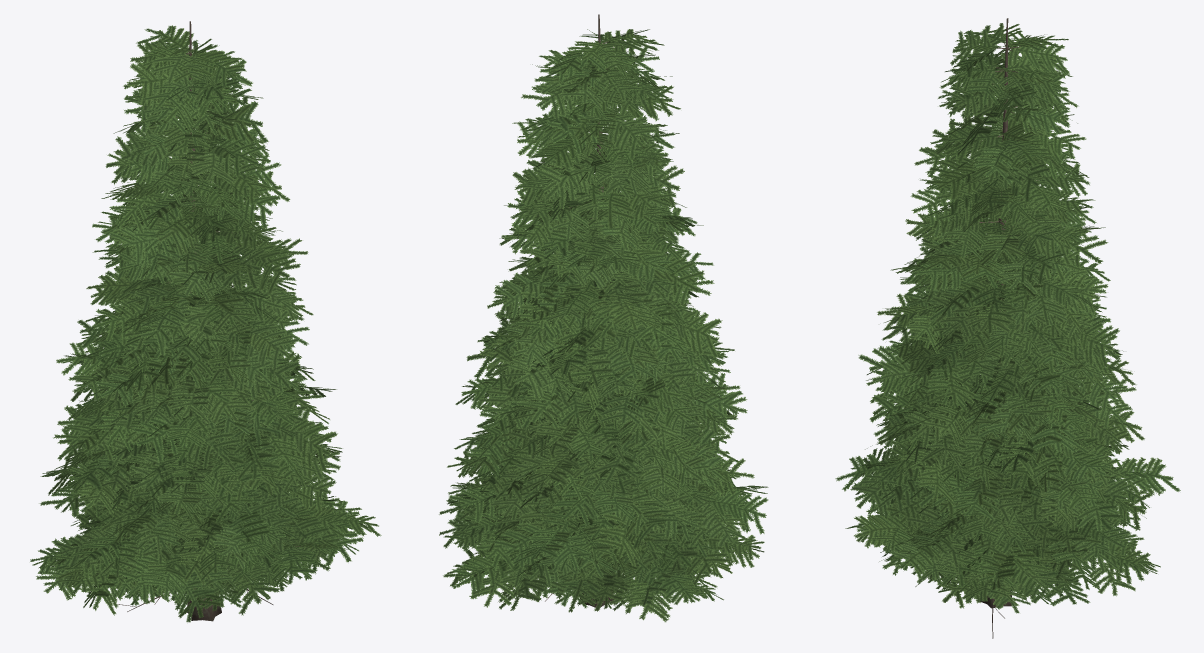
File: smrk_stredni.glb
3 views of the same model, side by side, from view 1: azimuth 30°, elevation 25°; view 2: azimuth 150°, elevation 25°; view 3: azimuth 270°, elevation 25° (orthographic). The views are drawn at different scales.
Visible parts, largest first — view 1: smrk_stredni; view 2: smrk_stredni; view 3: smrk_stredni.
Part boxes in pixels (x1,y1,x2,y2): smrk_stredni: [30, 21, 381, 622]; smrk_stredni: [439, 14, 768, 622]; smrk_stredni: [835, 18, 1180, 638].
Size of the model in its own units: 8.45 by 14.38 by 8.19.
Materials: 2 (2 with a texture image).
